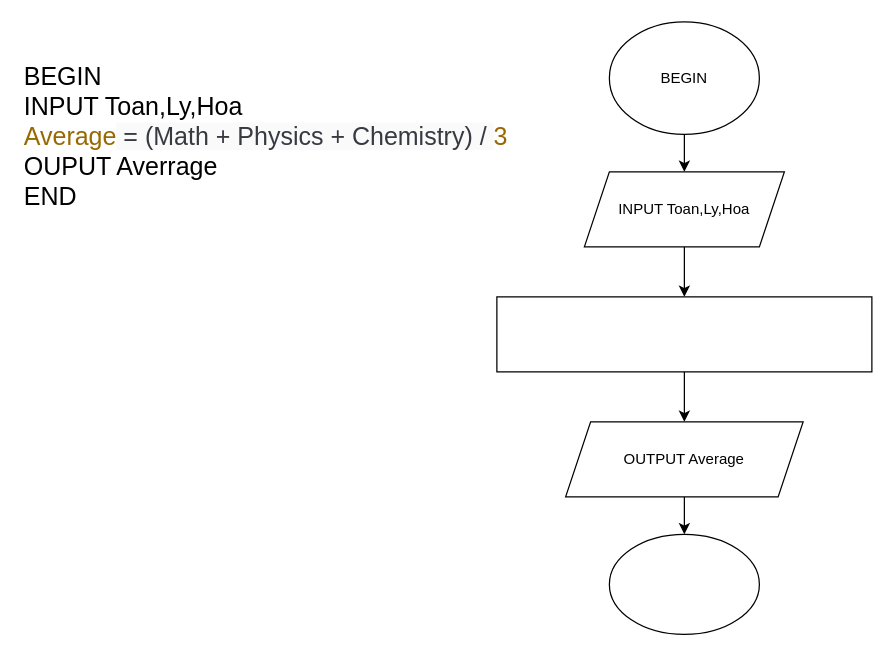
This 894x656 diagram has some shape labels left out. Here are the shapes that lost their labels. From the top down, the centre of each, then its label:
At (x=684, y=334): "Average = (Math + Physics + Chemistry) / 3".
At (x=683, y=583): "END".
